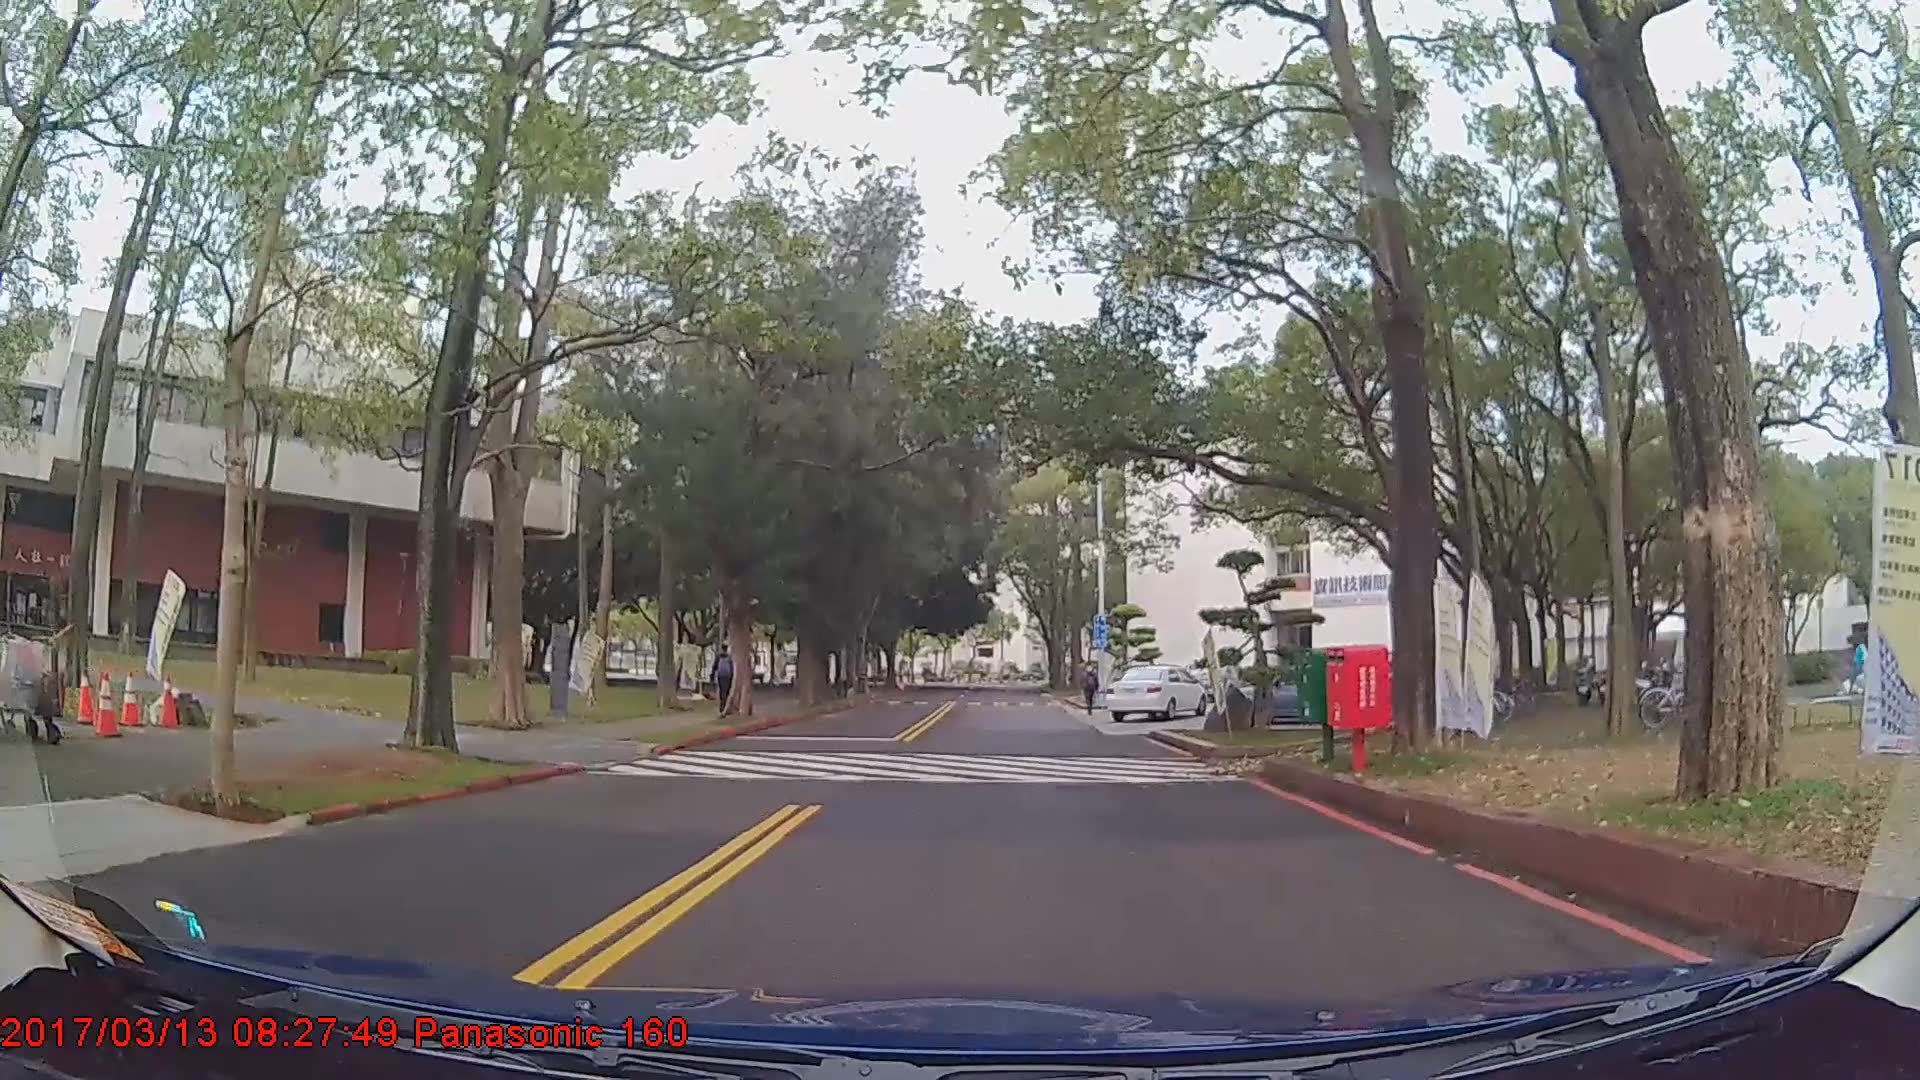pedestrian: (710, 652, 741, 721), (1079, 669, 1101, 723)
vehicle: (1105, 663, 1208, 722)
